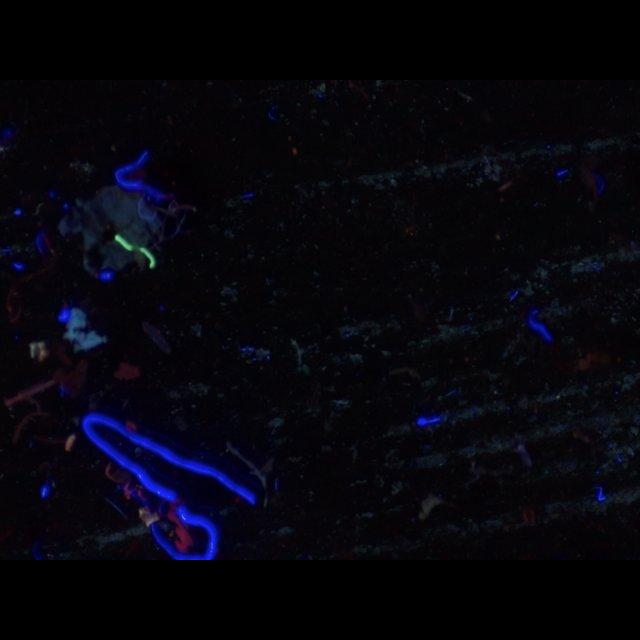Fibre: (416, 490, 442, 520)
